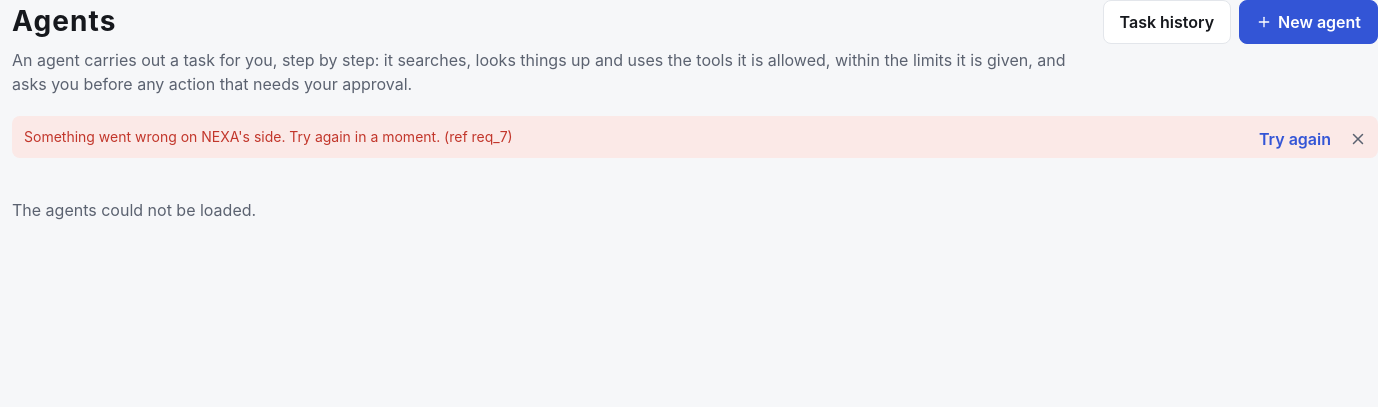
AgentsPage › shows fixed wording for an unexpected failure, and loads again on request
Expected: the message reads "Something went wrong on NEXA's side. Try again in a moment. (ref req_7)", [24, 128, 513, 145]
Expected: the text "The agents could not be loaded." is shown, [12, 200, 256, 220]
Click the button "Try again" at (1295, 139), box [1250, 120, 1340, 158]
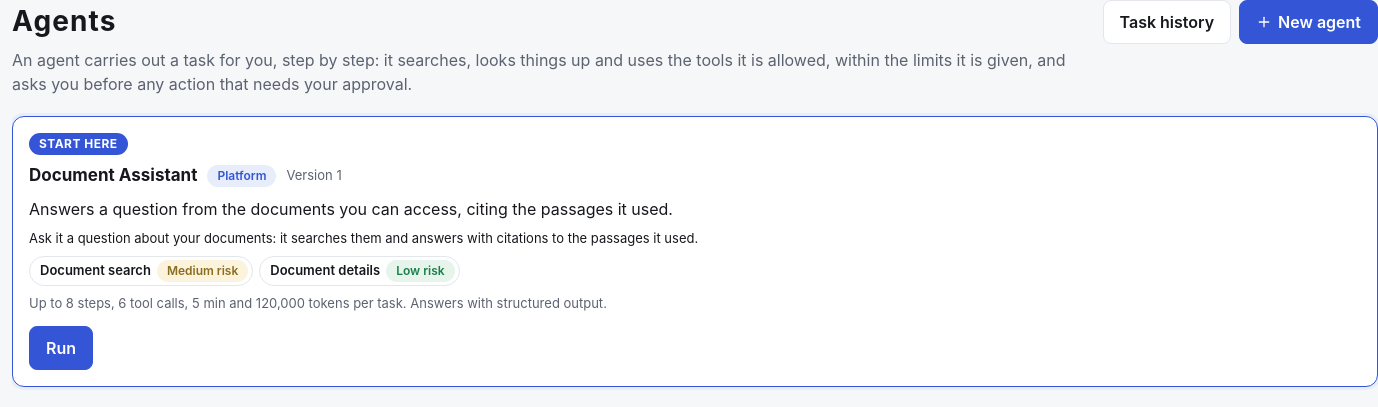
Expected: the heading "Document Assistant" is shown, [29, 163, 197, 188]
Expected: the message "Something went wrong on NEXA's side. Try again in a moment. (ref req_7)" is gone
